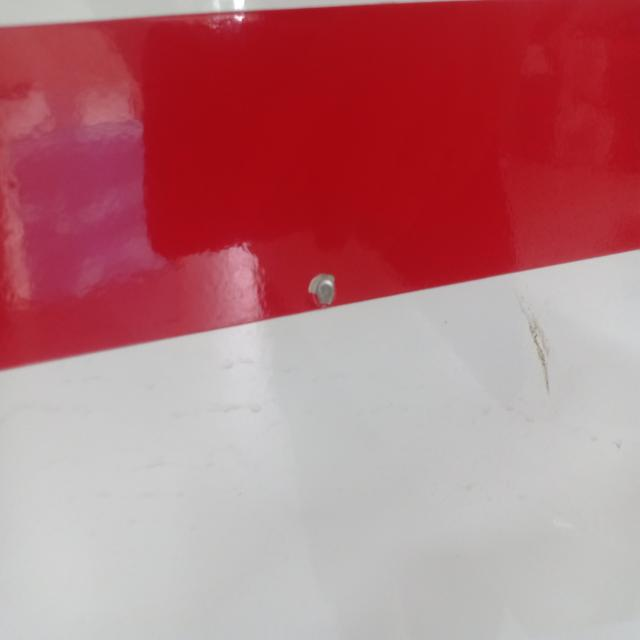Rupture: (484, 264, 564, 446), (306, 221, 378, 356)
